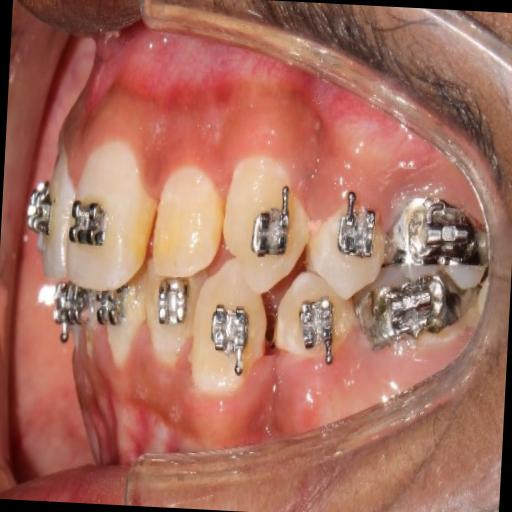correct_brace: (272, 271, 360, 383), (310, 180, 388, 300), (243, 180, 295, 260), (206, 304, 254, 382), (294, 292, 342, 366), (66, 186, 110, 260)
incorrect_brace: (332, 188, 380, 264)
